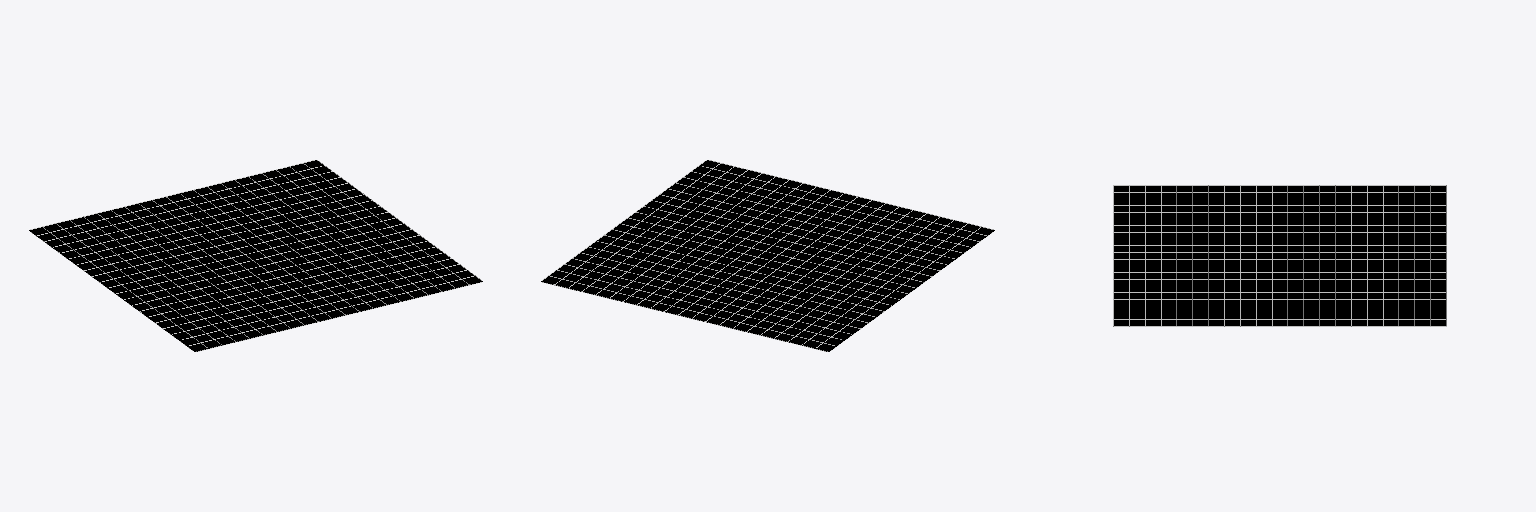
The model's file is groundPlane.obj.
The picture shows the model from 3 angles: view 1: azimuth 30°, elevation 25°; view 2: azimuth 150°, elevation 25°; view 3: azimuth 270°, elevation 25°; orthographic projection.
Visible parts, largest first — view 1: groundPlane; view 2: groundPlane; view 3: groundPlane.
Part boxes in pixels (bbox=[...]): groundPlane: bbox=[29, 160, 482, 351]; groundPlane: bbox=[541, 160, 994, 351]; groundPlane: bbox=[1113, 185, 1446, 326].
Bounding box in the file's own units: 32.23 × 0.0967 × 32.23.